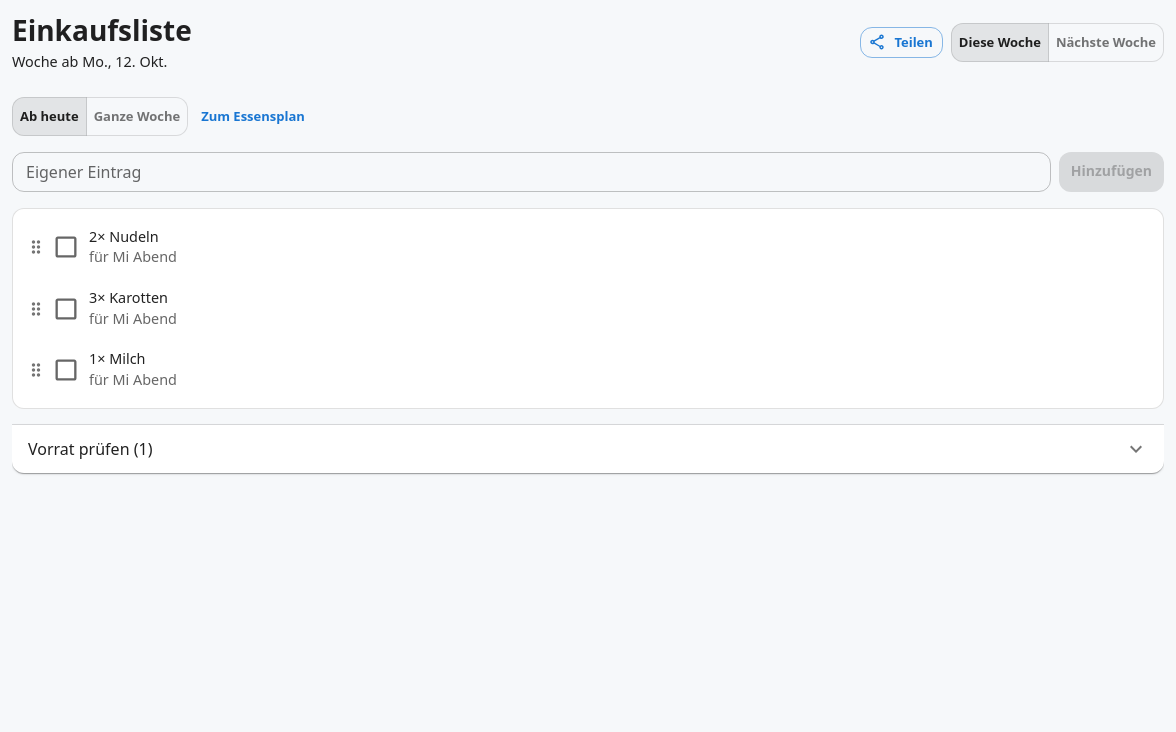
Test: ShoppingListPage (FOOD-014) › adds and removes own items
Type "Klopapier" into the field labelled "Eigener Eintrag" at [531, 172], box left=12, top=152, right=1051, bottom=192
Then press Enter
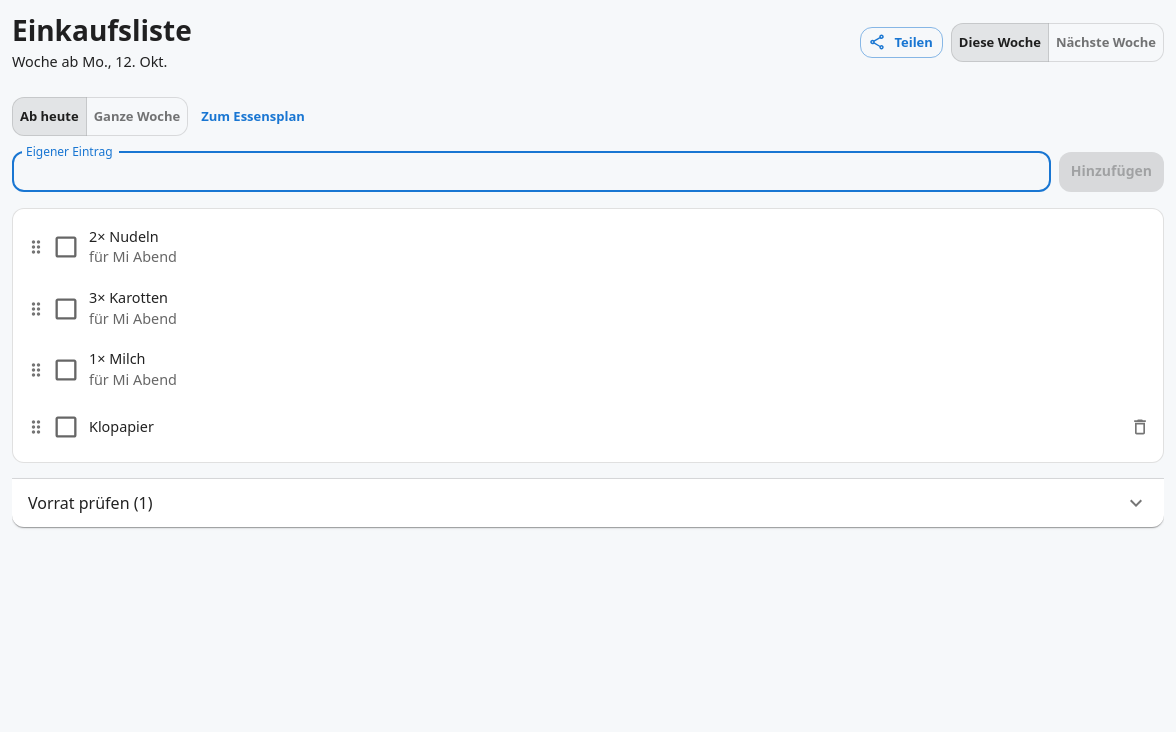
expect the text "Klopapier" is shown: met, box left=89, top=417, right=154, bottom=436
Click the button named "Entfernen: Klopapier" at [1140, 427], box left=1125, top=412, right=1155, bottom=442
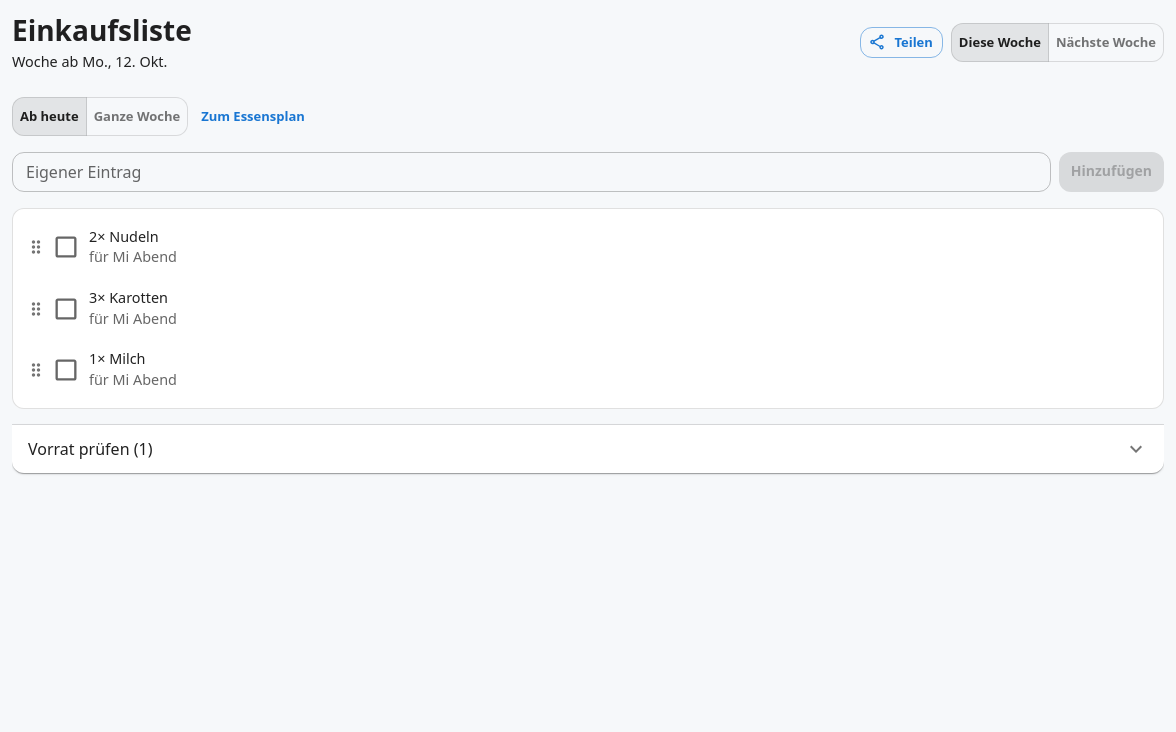
expect the text "Klopapier" is gone: met
